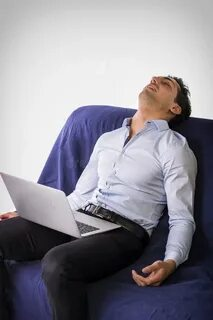sleep: (1, 74, 194, 279)
